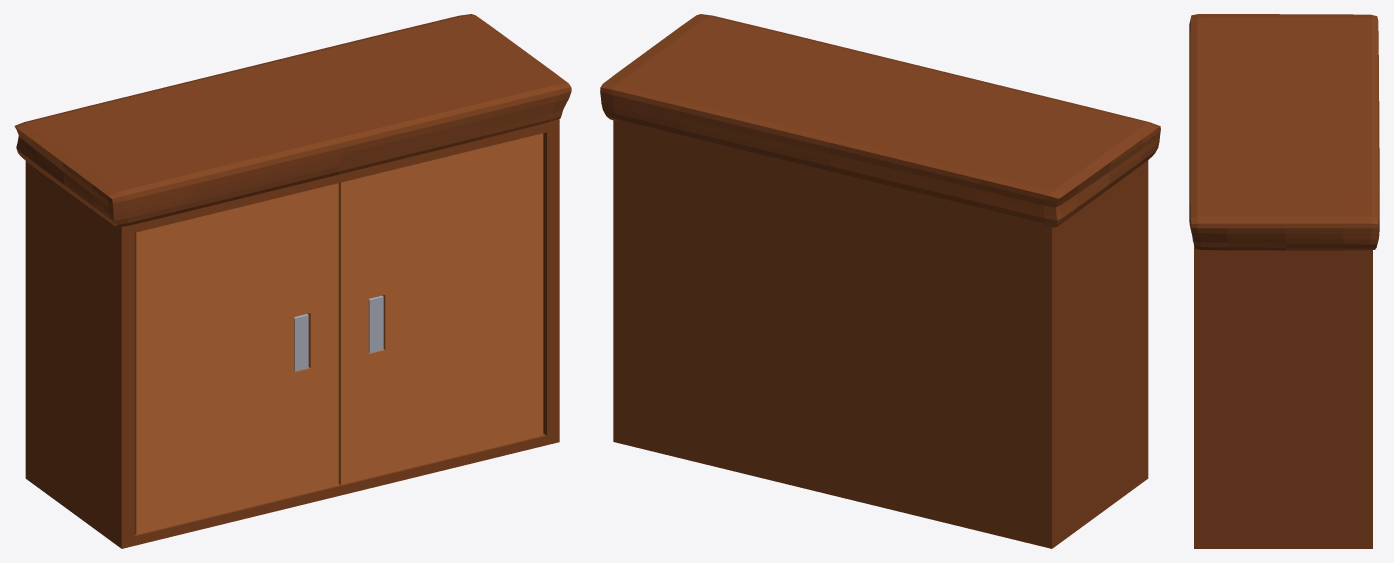
The model's file is MobleAccessori.fbx.
3 views of the same model, side by side, from view 1: azimuth 30°, elevation 25°; view 2: azimuth 150°, elevation 25°; view 3: azimuth 270°, elevation 25° (orthographic). The views are drawn at different scales.
Visible parts, largest first — view 1: Portes, Sobre, Cos, NansaPany, NansaPany.001; view 2: Cos, Sobre; view 3: Cos, Sobre.
Boxes of the visible parts, box(x1,y1,x2,y2) form: Portes: box(134, 133, 543, 534); Sobre: box(14, 14, 571, 227); Cos: box(25, 119, 559, 548); NansaPany: box(368, 295, 383, 352); NansaPany.001: box(294, 314, 308, 371); Cos: box(613, 120, 1148, 548); Sobre: box(600, 14, 1160, 227); Cos: box(1194, 246, 1372, 548); Sobre: box(1189, 14, 1379, 250).
Size of the model in its own units: 211 by 156 by 80.88.
